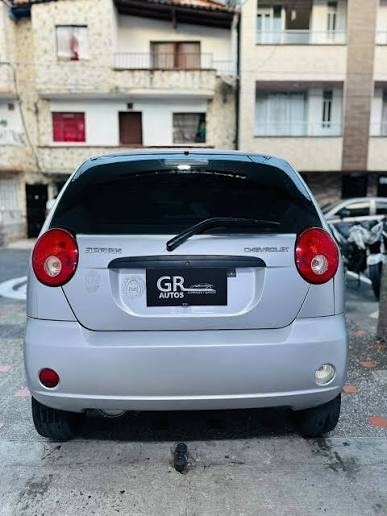car: (25, 135, 352, 432), (321, 201, 387, 290), (323, 200, 386, 259), (322, 199, 387, 236)
